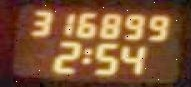1: (60, 9, 75, 36)
2: (50, 39, 80, 74)
3: (28, 8, 53, 38)
4: (118, 43, 148, 74)
5: (91, 40, 118, 75)
6: (75, 10, 96, 39)
8: (98, 11, 121, 38)
9: (121, 11, 145, 38), (146, 12, 168, 41)
X: (80, 45, 91, 64)
